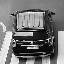motor: (15, 3, 51, 56)
